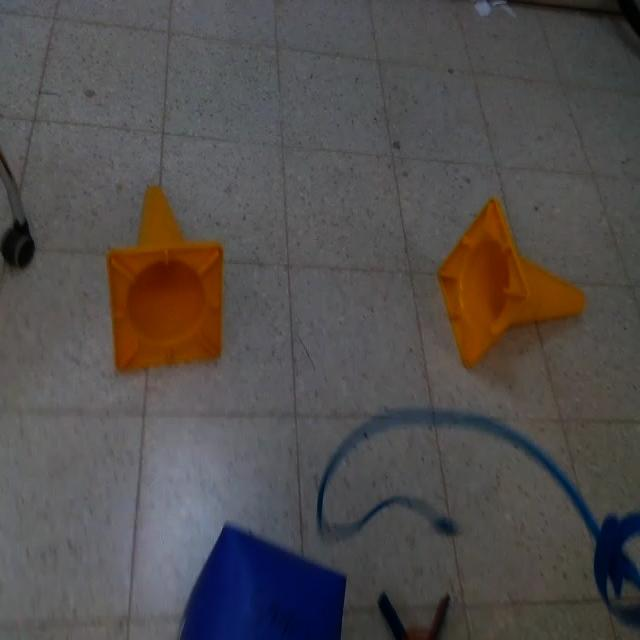cone: (434, 197, 586, 370), (108, 183, 228, 371)
cube: (180, 523, 347, 640)
